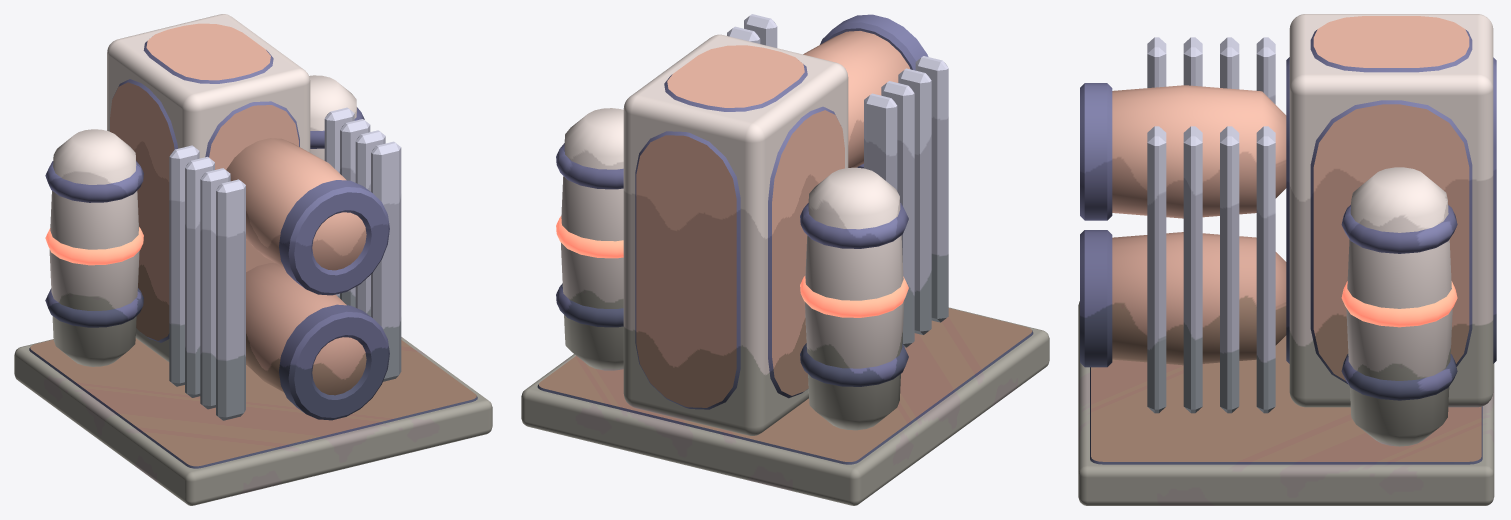
File: R4X_DoubleShotOverdrive.glb
The picture shows the model from 3 angles, left to right: view 1: azimuth 30°, elevation 25°; view 2: azimuth 150°, elevation 25°; view 3: azimuth 270°, elevation 25°; orthographic projection. The views are drawn at different scales.
Parts seen in each view (by area): view 1: R4X_DoubleShotOverdrive_Body; view 2: R4X_DoubleShotOverdrive_Body; view 3: R4X_DoubleShotOverdrive_Body.
Boxes of the visible parts, left/top/right/bottom form: R4X_DoubleShotOverdrive_Body: left=14, top=14, right=492, bottom=505; R4X_DoubleShotOverdrive_Body: left=521, top=14, right=1049, bottom=505; R4X_DoubleShotOverdrive_Body: left=1078, top=14, right=1496, bottom=505.
Bounding box in the file's own units: 0.514 × 0.52 × 0.517.
Materials: 5 (4 with a texture image).
